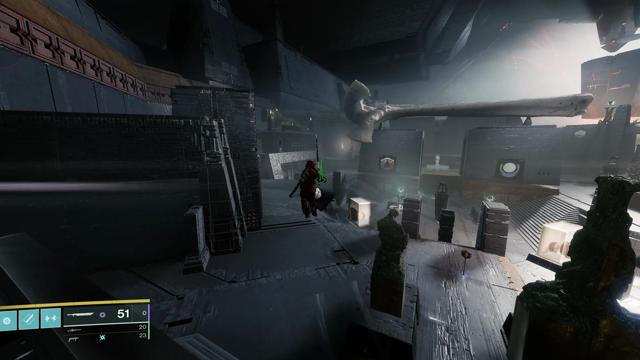commune: (575, 130, 586, 138)
pyramid: (380, 158, 394, 170)
traveler: (499, 162, 520, 177)
